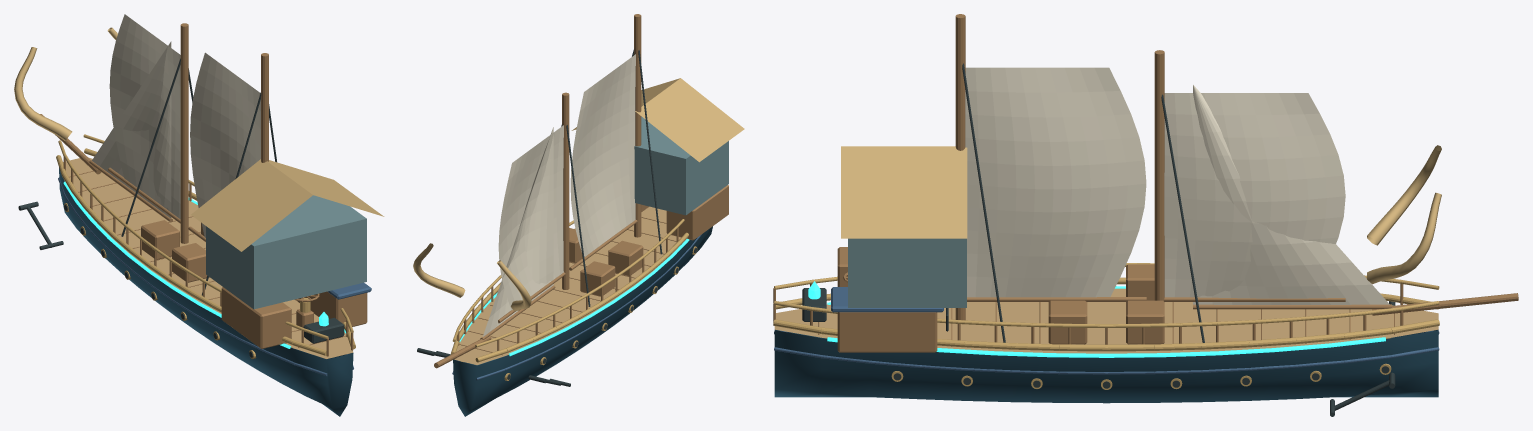
Rendered from premium_royal_schooner.glb.
3 renders of one model, left to right at view 1: azimuth 30°, elevation 25°; view 2: azimuth 150°, elevation 25°; view 3: azimuth 270°, elevation 25°, orthographic. The views are drawn at different scales.
Visible parts, largest first — view 1: premium_royal_schooner; view 2: premium_royal_schooner; view 3: premium_royal_schooner.
Boxes of the visible parts, box(x1,y1,x2,y2) form: premium_royal_schooner: box(14, 14, 384, 416); premium_royal_schooner: box(413, 14, 744, 416); premium_royal_schooner: box(773, 14, 1518, 416).
Size of the model in its own units: 3.86 by 7.6 by 13.47.
